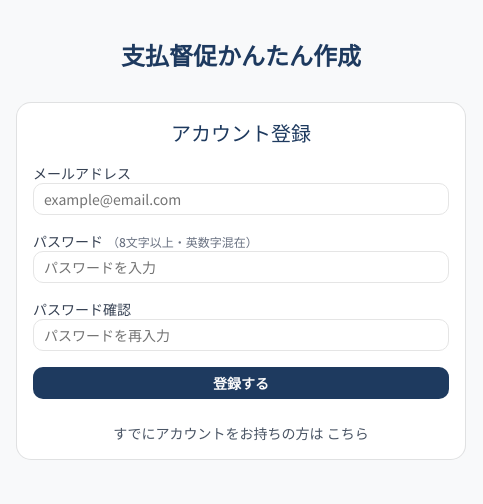
it: RegisterPage › パスワードが7文字以下の場合エラーが表示される
Type "test@example.com" into the field labelled "メールアドレス" at (241, 199), box [33, 183, 449, 215]
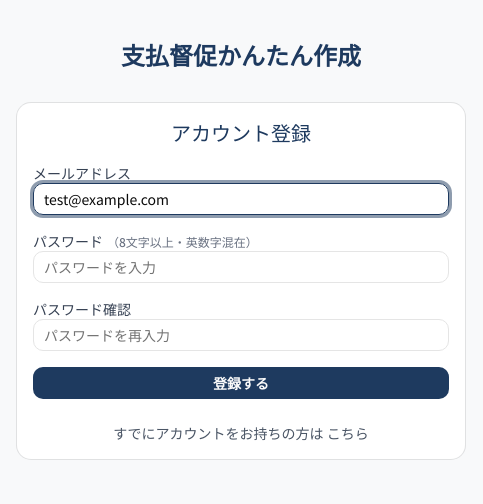
Type "Pass1ab" into the password field with placeholder "パスワードを入力" at (241, 267), box [33, 251, 449, 283]
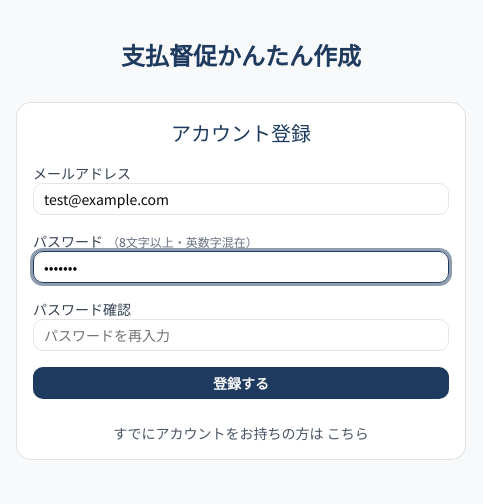
Type "Pass1ab" into the password field with placeholder "パスワードを再入力" at (241, 335), box [33, 319, 449, 351]
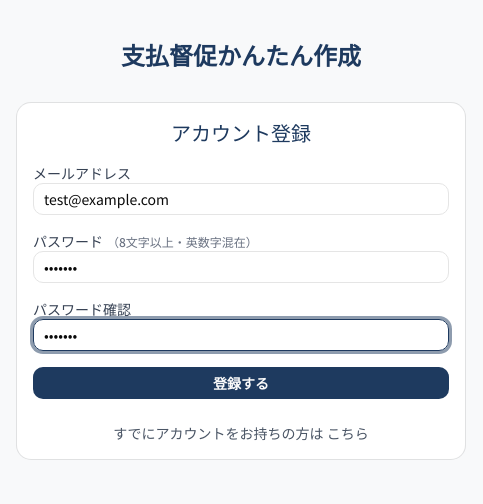
Submit the form "登録する", box [33, 163, 449, 399]
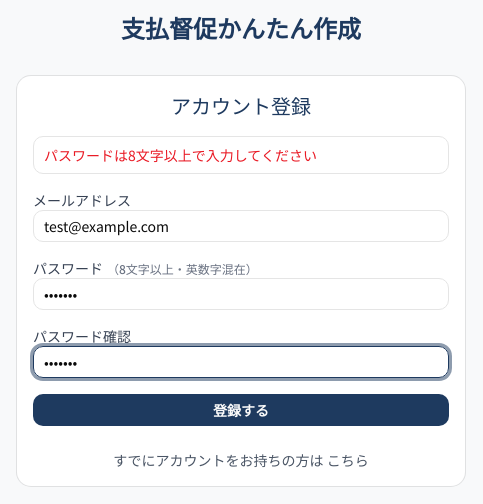
expect the message "パスワードは8文字以上で入力してください" is shown: met, box [33, 136, 449, 174]
